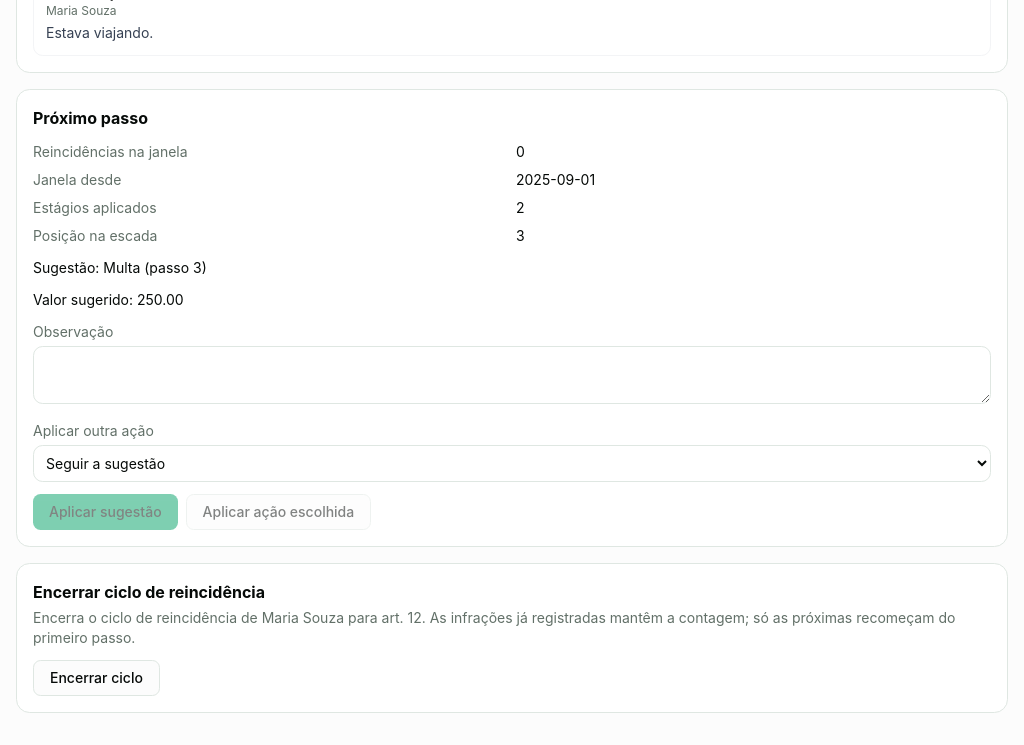
Scenario: InfractionsPage — the occurrence bridge › closes a recidivism cycle from the infraction, and lists it after
(page scrolled)
Click the button with test id "open-cycle-close" at (96, 678), box [33,660,160,696]
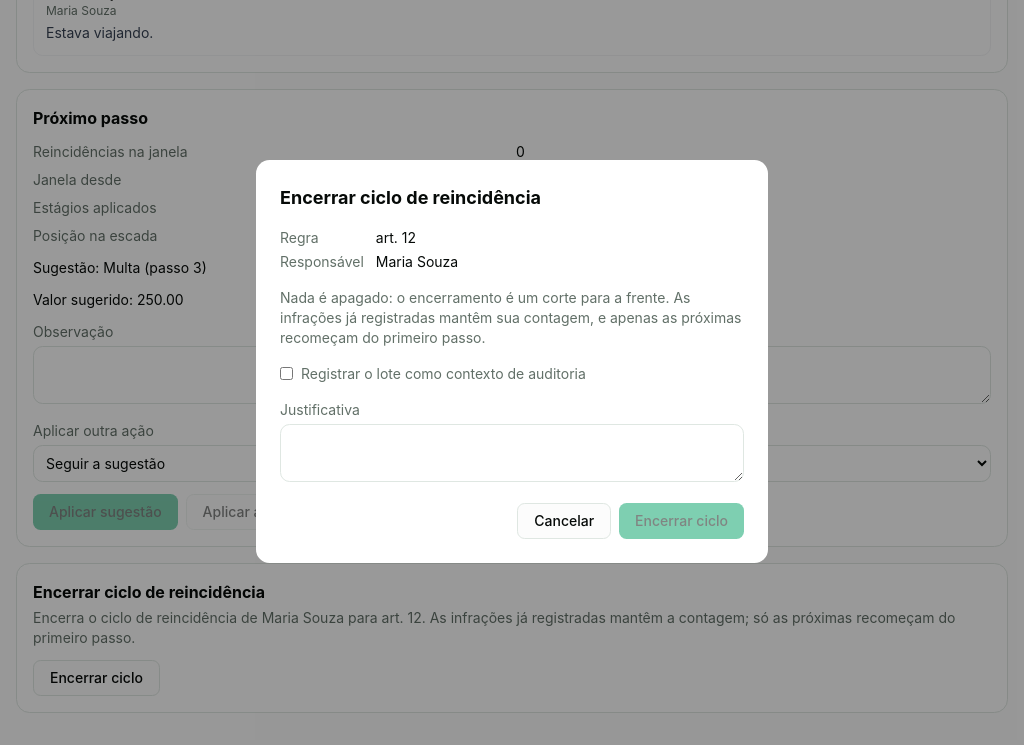
Now the element with test id "cycle-close-pair" shows "art. 12", box [376,228,416,246]
Now the element with test id "cycle-close-pair" shows "Maria Souza", box [376,252,458,270]
Now the button with test id "submit-cycle-close" is disabled, box [619,502,744,538]
Type "Troca de inquilino não refletida no cadastro." into the text box labelled "Justificativa" at (512, 452), box [280,424,744,482]
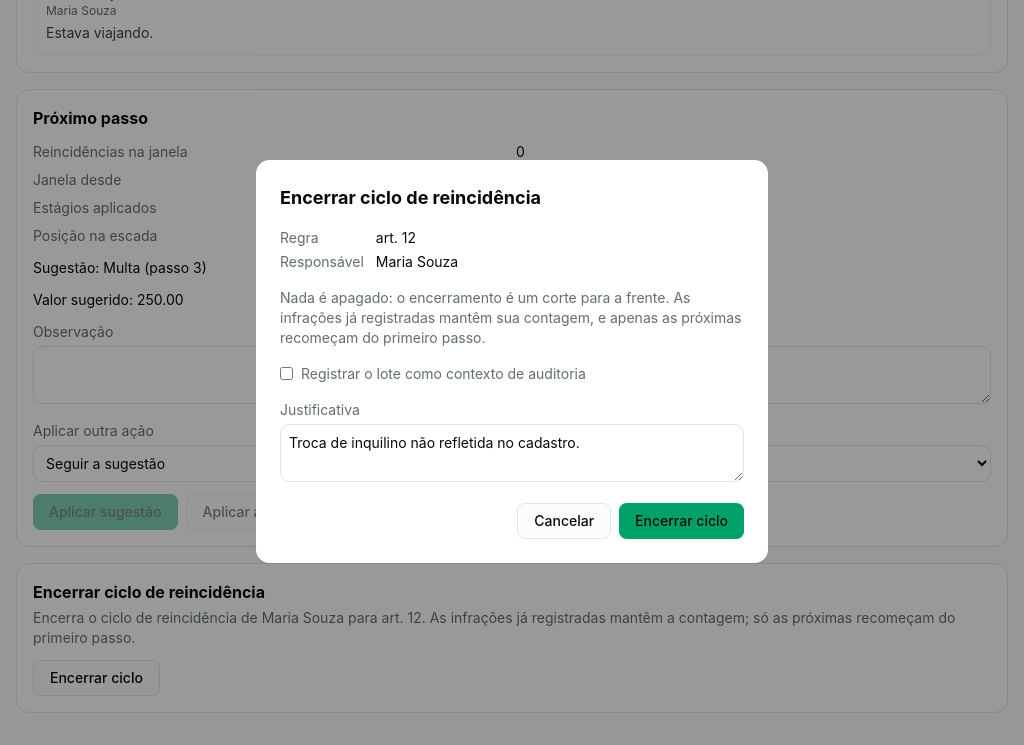
Click the button with test id "submit-cycle-close" at (682, 520), box [619,502,744,538]
(page scrolled)
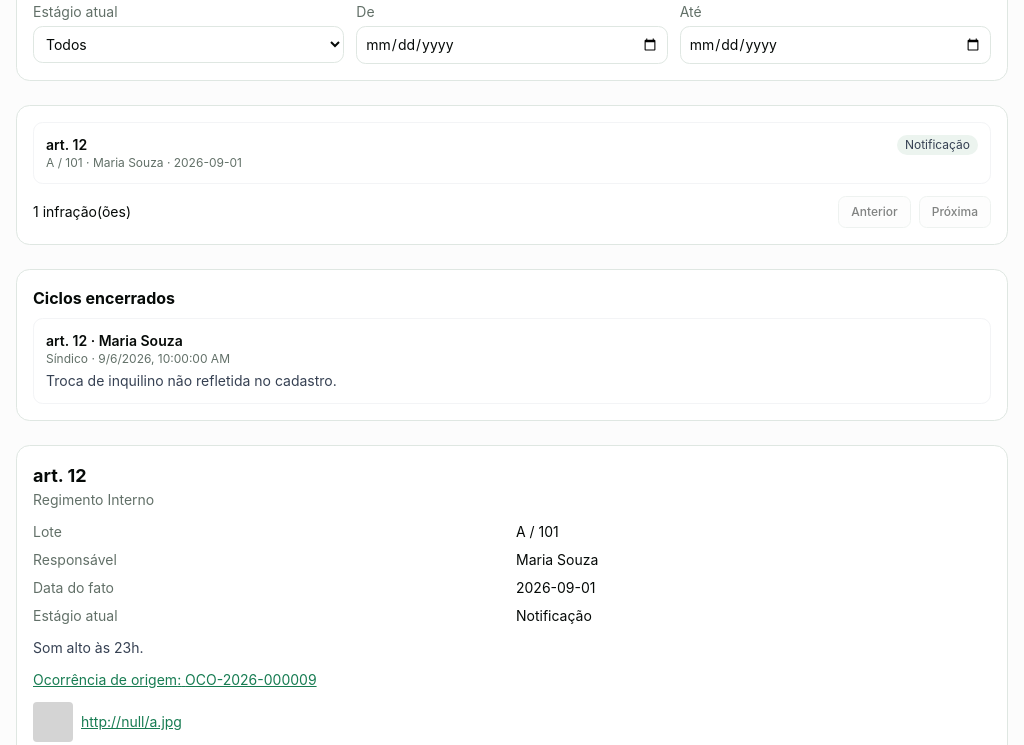
Now the list item with test id "cycle-close-cyc-1" shows "Troca de inquilino", box [46,372,337,389]
